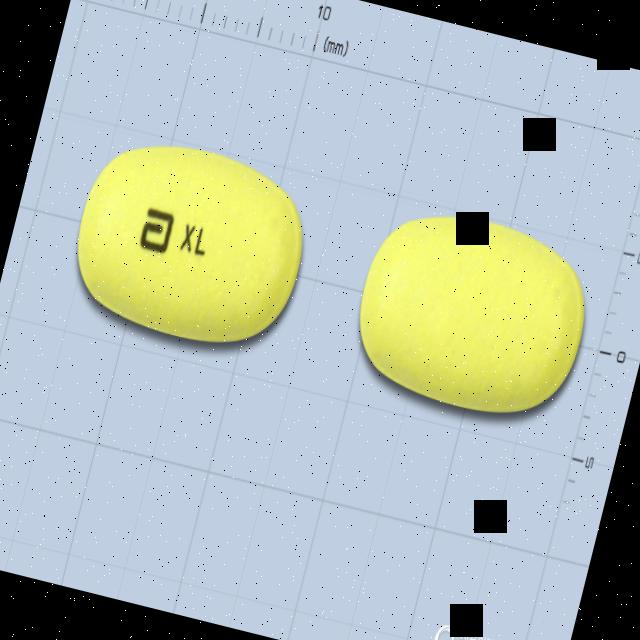Klaricid-Xl: (57, 124, 322, 362)
